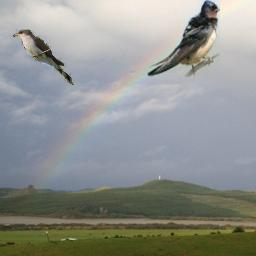Cuckoo: (13, 29, 76, 86)
Swallow: (129, 0, 220, 77)
